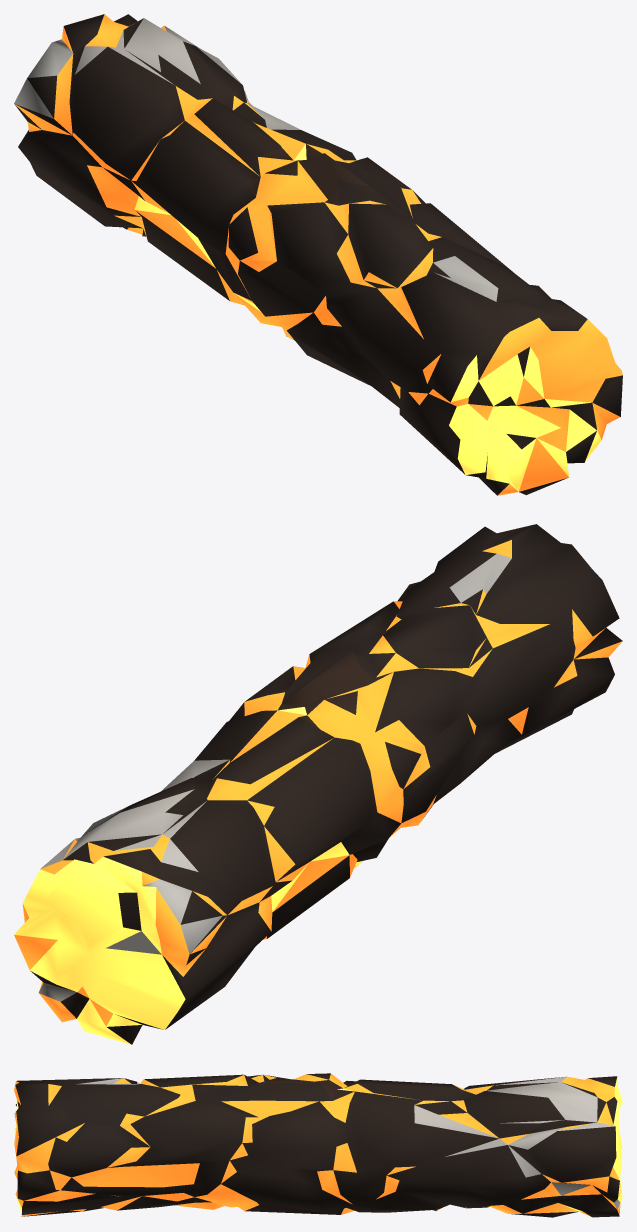
The model's file is ember_log_burning_b_lod2.glb.
The picture shows the model from 3 angles, top to bottom: view 1: azimuth 30°, elevation 25°; view 2: azimuth 150°, elevation 25°; view 3: azimuth 270°, elevation 25°; orthographic projection. The views are drawn at different scales.
Visible parts, largest first — view 1: ember_log_burning_b.001; view 2: ember_log_burning_b.001; view 3: ember_log_burning_b.001.
Part boxes in pixels (left/top/right/bottom): ember_log_burning_b.001: left=14, top=14, right=622, bottom=495; ember_log_burning_b.001: left=14, top=524, right=622, bottom=1044; ember_log_burning_b.001: left=14, top=1073, right=622, bottom=1217.
Bounding box in the file's own units: 9.52 × 9.24 × 38.39.
